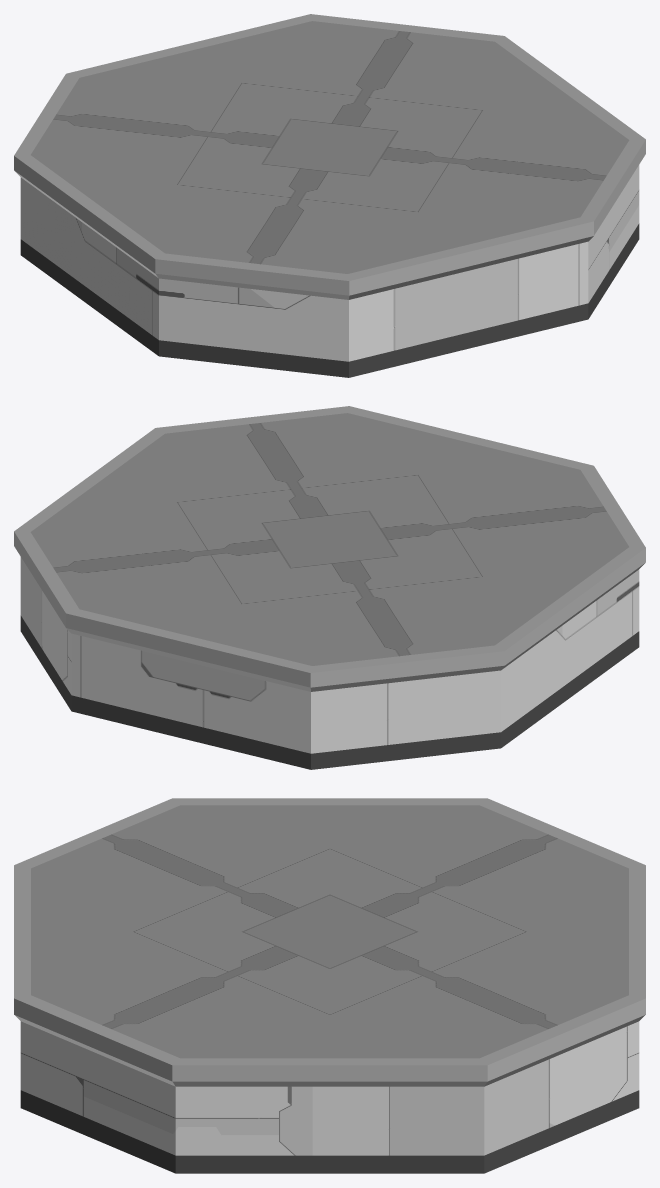
File: SM_Platform_7.fbx
The picture shows the model from 3 angles, top to bottom: view 1: azimuth 30°, elevation 25°; view 2: azimuth 150°, elevation 25°; view 3: azimuth 270°, elevation 25°; orthographic projection. The views are drawn at different scales.
Visible parts, largest first — view 1: SM_Platform_Low_A; view 2: SM_Platform_Low_A; view 3: SM_Platform_Low_A.
Part boxes in pixels (left/top/right/bottom): SM_Platform_Low_A: left=14, top=14, right=645, bottom=377; SM_Platform_Low_A: left=14, top=406, right=645, bottom=769; SM_Platform_Low_A: left=14, top=798, right=645, bottom=1173.
Size of the model in its own units: 412 by 80 by 412.
